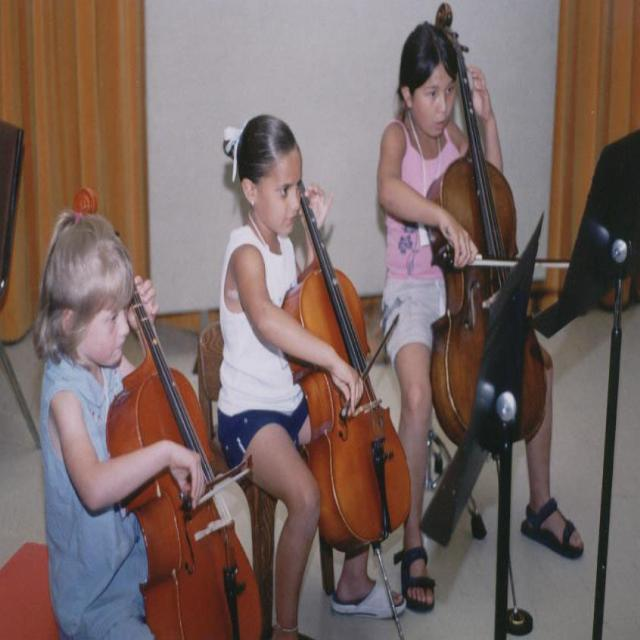cello: (76, 187, 263, 640), (429, 3, 548, 448), (280, 180, 414, 548)
